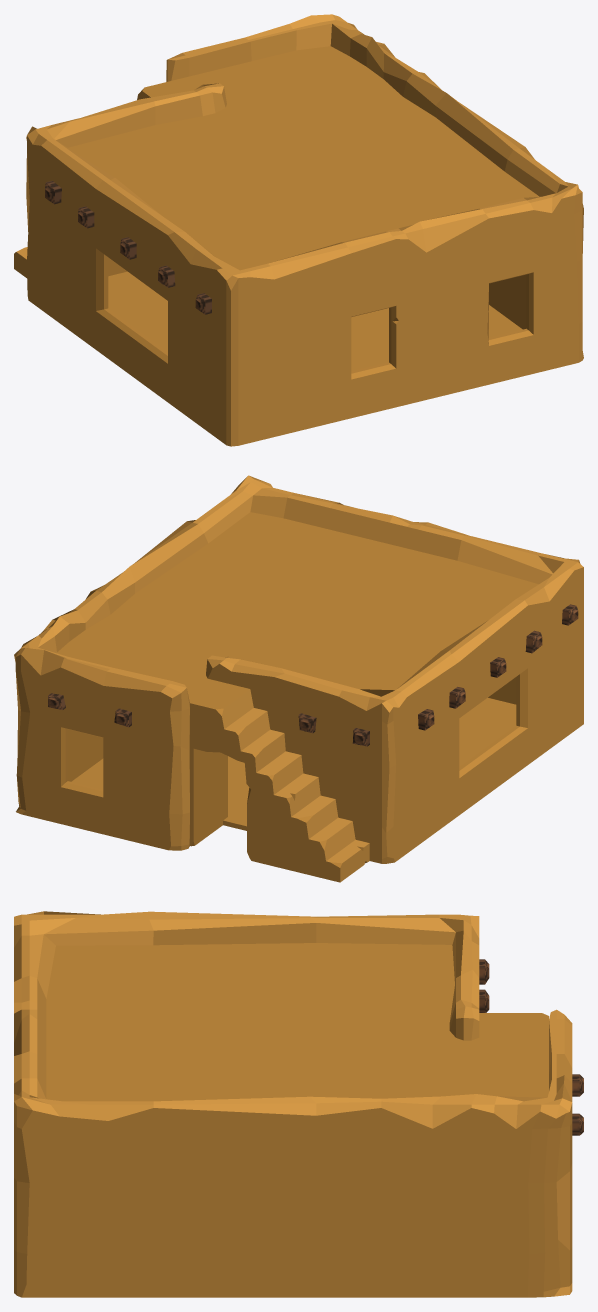
Rendered from Building_L2.fbx.
3 views of the same model, one above another, from view 1: azimuth 30°, elevation 25°; view 2: azimuth 150°, elevation 25°; view 3: azimuth 270°, elevation 25° (orthographic). The views are drawn at different scales.
Parts seen in each view (by area): view 1: Building 1; view 2: Building 1; view 3: Building 1.
Part boxes in pixels (<box>): Building 1: <box>14,14,583,446</box>; Building 1: <box>14,475,583,882</box>; Building 1: <box>14,911,583,1297</box>.
Size of the model in its own units: 206 by 94 by 245.
